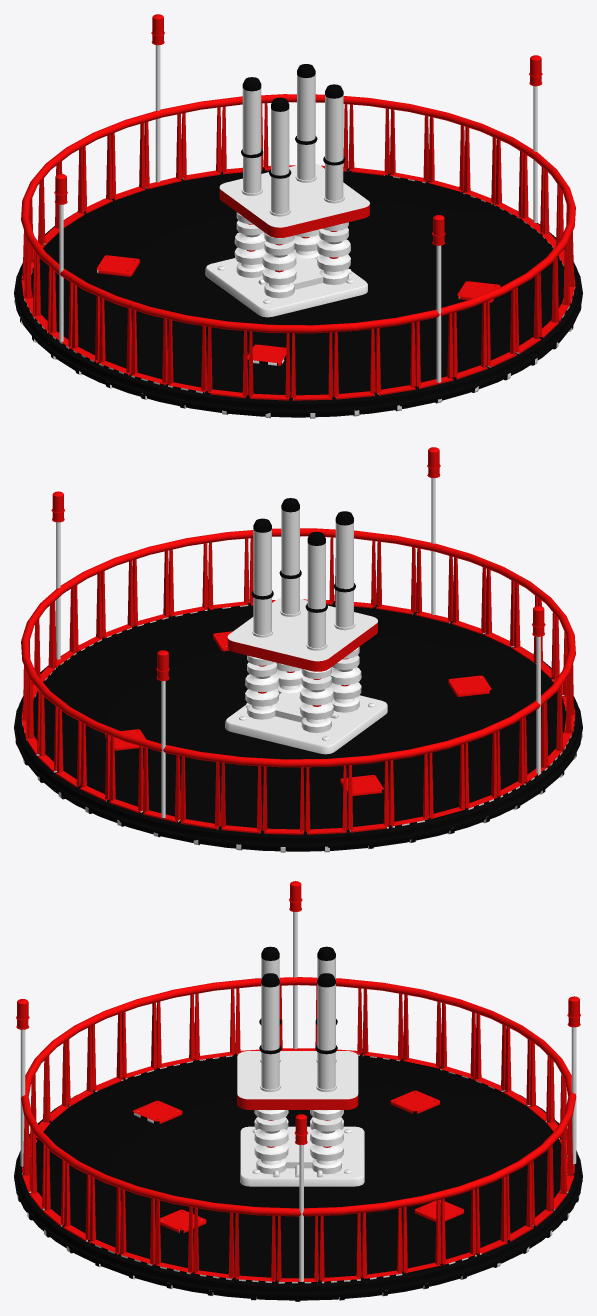
3 renders of one model, top to bottom at view 1: azimuth 30°, elevation 25°; view 2: azimuth 150°, elevation 25°; view 3: azimuth 270°, elevation 25°, orthographic.
Parts seen in each view (by area): view 1: f_unit_01; view 2: f_unit_01; view 3: f_unit_01.
Boxes of the visible parts, x1=… form: f_unit_01: x1=14, y1=14, x2=582, y2=418; f_unit_01: x1=14, y1=447, x2=582, y2=852; f_unit_01: x1=14, y1=881, x2=582, y2=1301.
Bounding box in the file's own units: 229 × 98 × 229.
